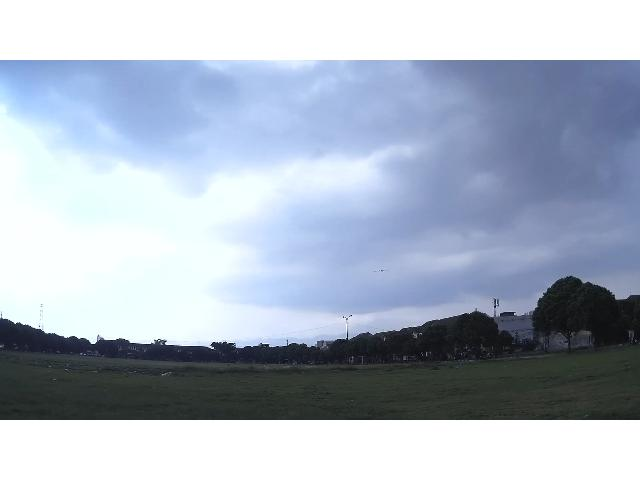Anti-Drone: (373, 269, 389, 272)
